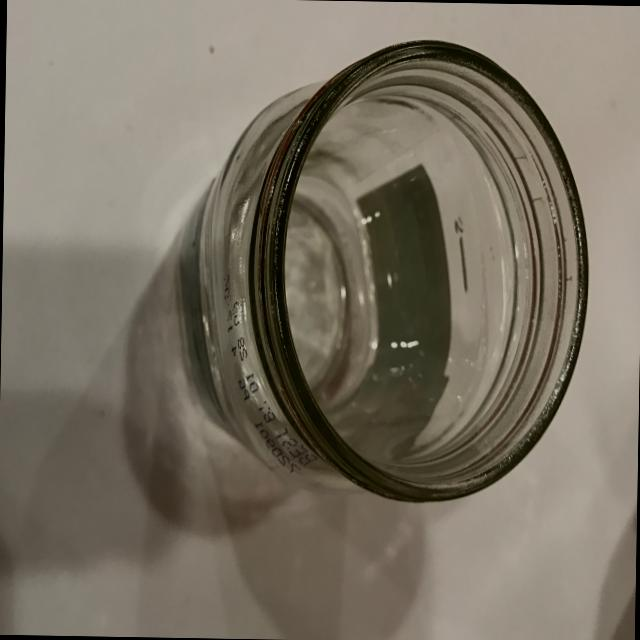Glass: (171, 22, 600, 540)
